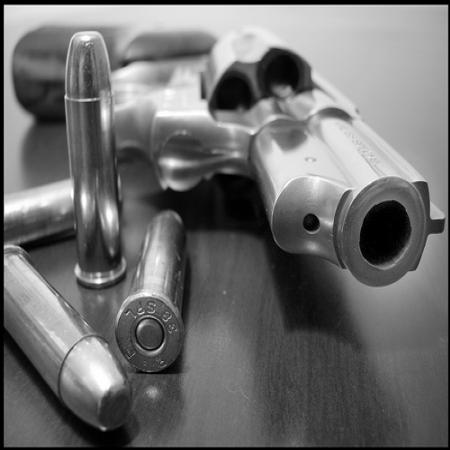Pistol: (10, 23, 436, 294)
